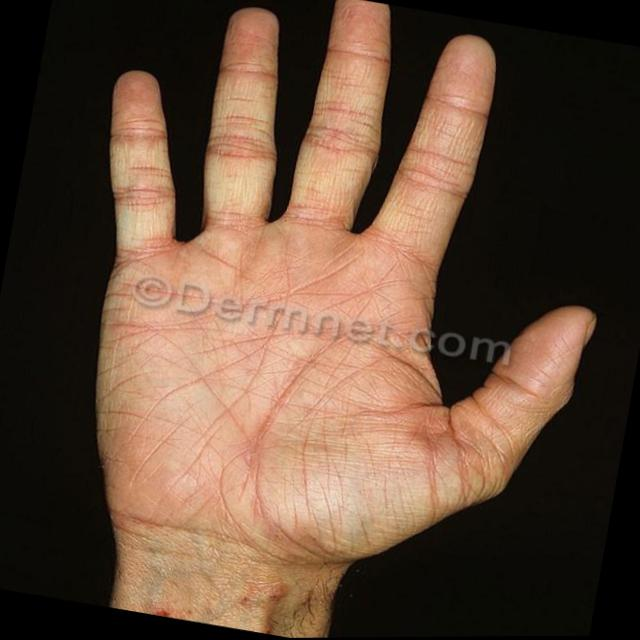liquenificacion 1: (95, 0, 605, 570)
